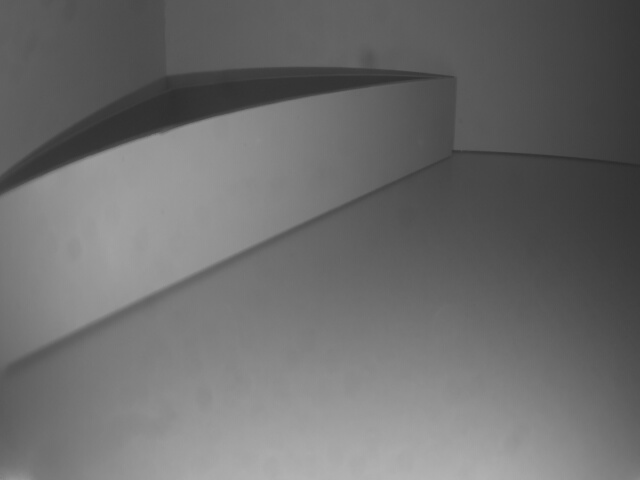Red: (0, 77, 458, 380)
